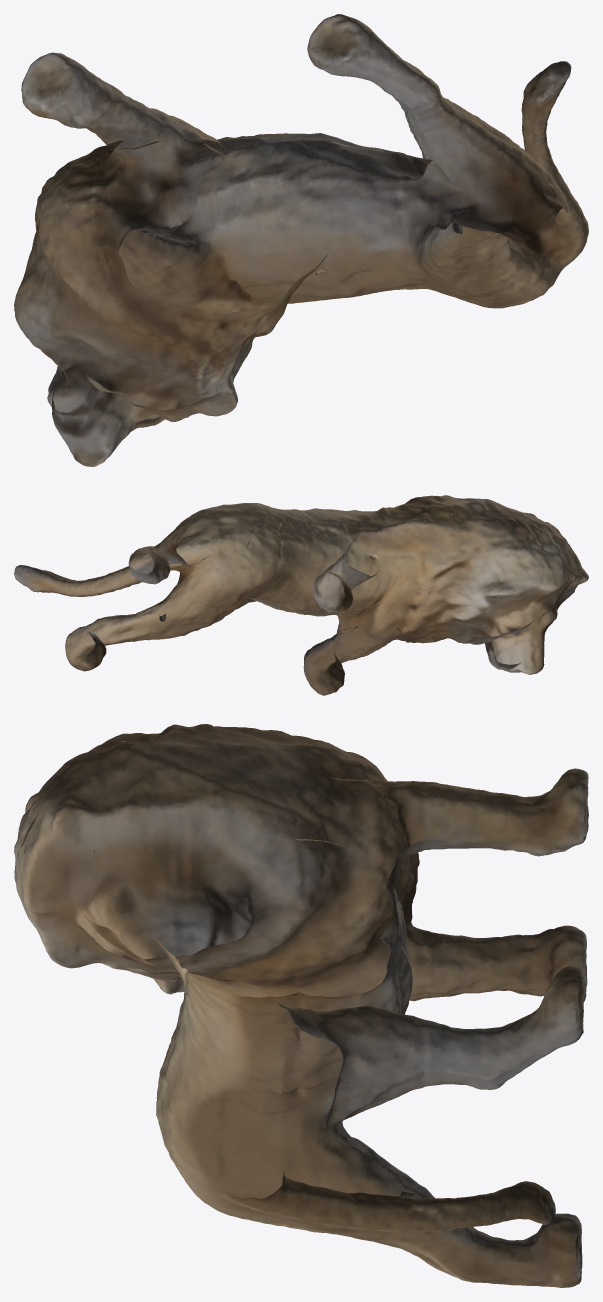
The model's file is lion.glb.
The picture shows the model from 3 angles, top to bottom: view 1: azimuth 30°, elevation 25°; view 2: azimuth 150°, elevation 25°; view 3: azimuth 270°, elevation 25°; orthographic projection. The views are drawn at different scales.
Bounding box in the file's own units: 1 × 0.3646 × 0.6134.
